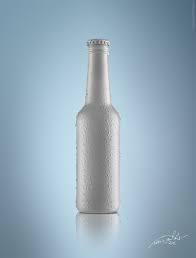Glass bottle: (60, 33, 133, 226)
